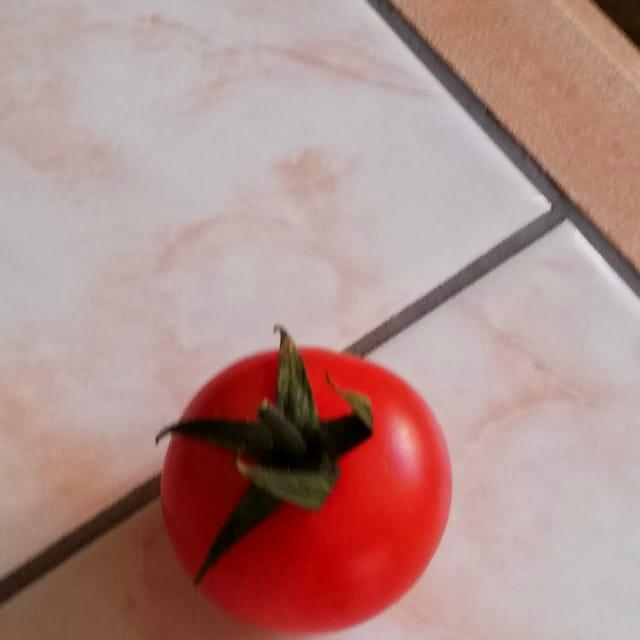tomato: (128, 289, 465, 640)
